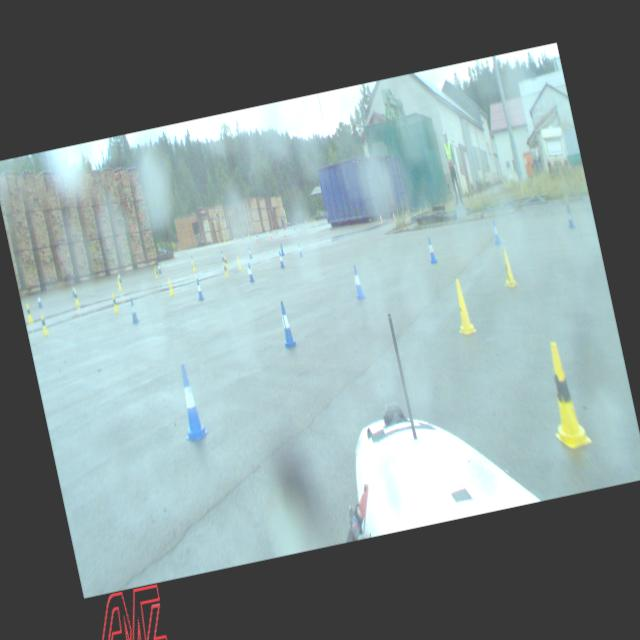blue_cone: (170, 360, 210, 444), (274, 300, 296, 348), (350, 264, 366, 300), (425, 236, 438, 264), (128, 296, 140, 322), (490, 218, 501, 244), (193, 276, 204, 300), (564, 206, 575, 229), (245, 260, 255, 282), (277, 251, 285, 268), (35, 292, 42, 308), (296, 242, 303, 256), (70, 282, 76, 296), (278, 242, 284, 255), (116, 270, 122, 283), (247, 246, 253, 258), (156, 262, 162, 273), (220, 250, 224, 261), (275, 226, 278, 232)
orange_cone: (378, 212, 382, 222), (392, 211, 396, 221), (268, 232, 272, 240), (282, 230, 286, 237), (297, 226, 300, 234), (272, 228, 274, 235)
yellow_cone: (536, 338, 592, 452), (448, 275, 477, 336), (496, 244, 518, 290), (38, 310, 48, 336), (109, 291, 119, 313), (24, 301, 34, 323), (166, 276, 174, 296), (72, 288, 80, 306), (221, 260, 228, 276), (190, 258, 197, 272), (152, 265, 159, 278), (222, 254, 228, 269), (116, 276, 122, 291), (236, 256, 242, 270), (306, 220, 309, 228), (266, 227, 268, 233), (315, 219, 317, 225)
